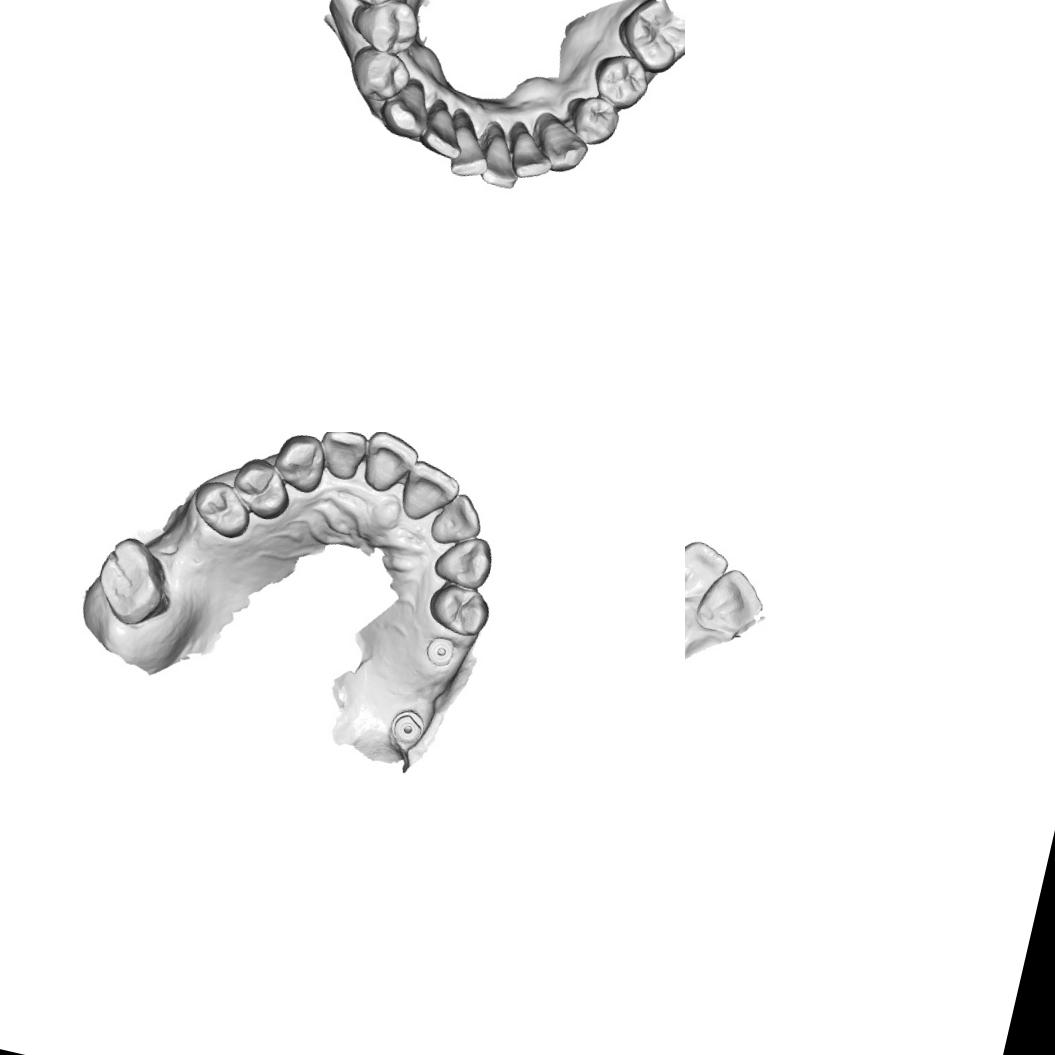canine: (526, 108, 594, 178), (428, 528, 498, 594), (378, 72, 436, 144), (268, 432, 331, 497)
implant: (386, 703, 431, 748), (421, 632, 460, 670)
incisor: (692, 562, 771, 644), (395, 456, 466, 530), (438, 105, 500, 183), (356, 432, 423, 500), (472, 117, 531, 192), (426, 485, 489, 553), (499, 118, 561, 184), (415, 95, 472, 160), (685, 533, 732, 600), (314, 432, 371, 485)
molar: (86, 530, 180, 634), (609, 0, 685, 82)
premolar: (224, 452, 298, 525), (342, 39, 416, 109), (185, 475, 258, 543), (345, 0, 427, 59), (586, 48, 654, 115), (422, 580, 494, 642), (559, 90, 624, 151)
